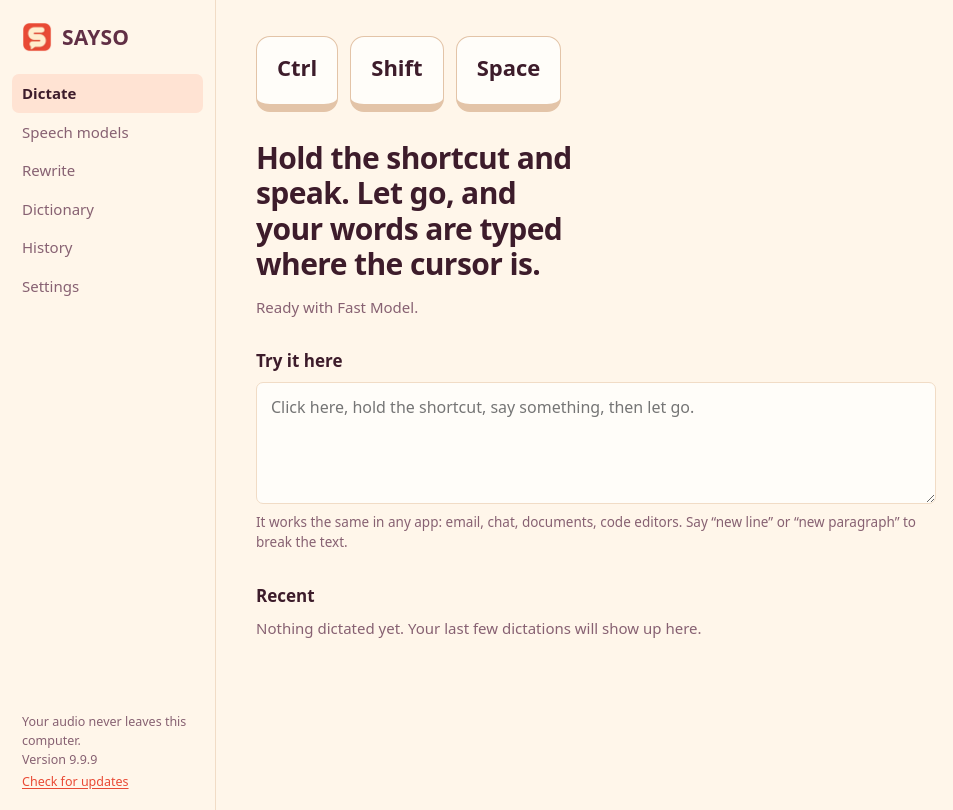
Test: updates › checks on demand from the sidebar
Expected: the navigation bar is shown, [0,0,216,809]
What coordinates should you click on to do the following:
click the button "Check for updates"
I would click on:
 (75, 783)
Its box is [22,773,128,792].
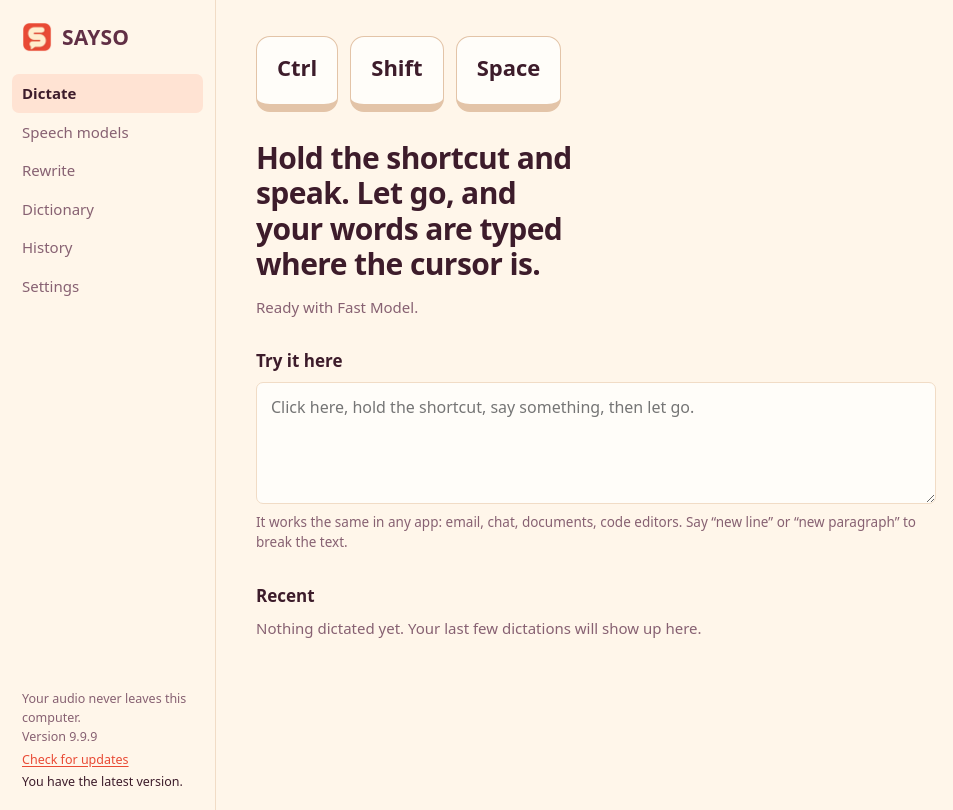
Now the text "You have the latest version." is shown, box [22,773,193,792]
What coordinates should you click on to do the following:
click the button "Check for updates"
I would click on:
 (75, 760)
Its box is [22,750,128,769].
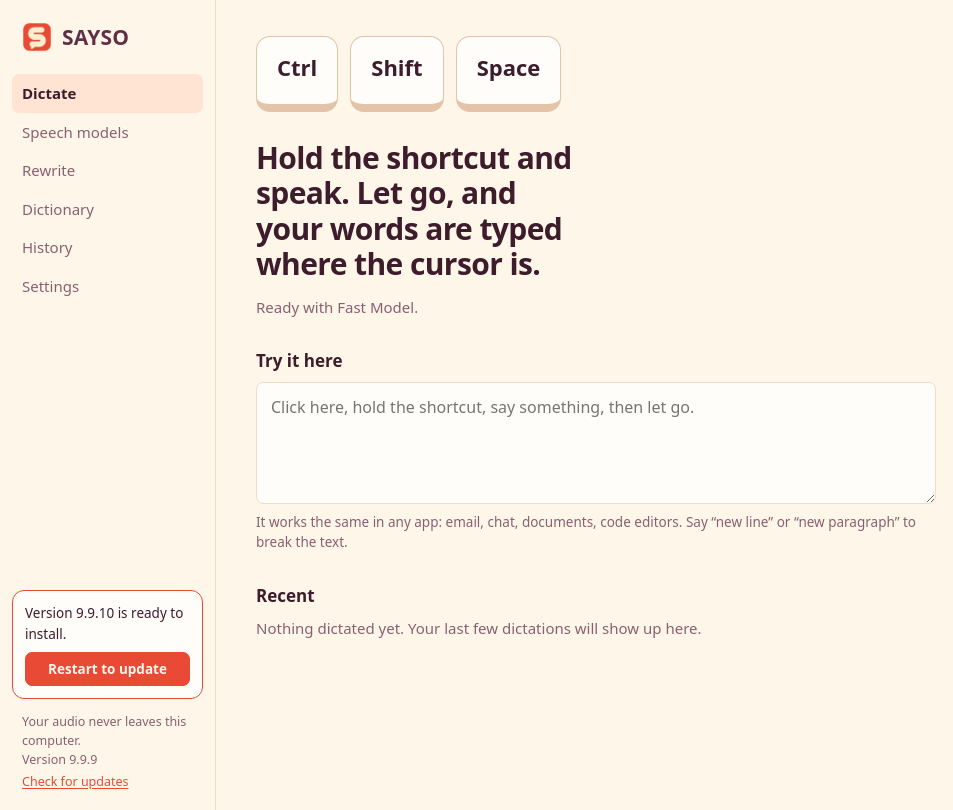
Now the button "Restart to update" is shown, box [25,652,190,686]
